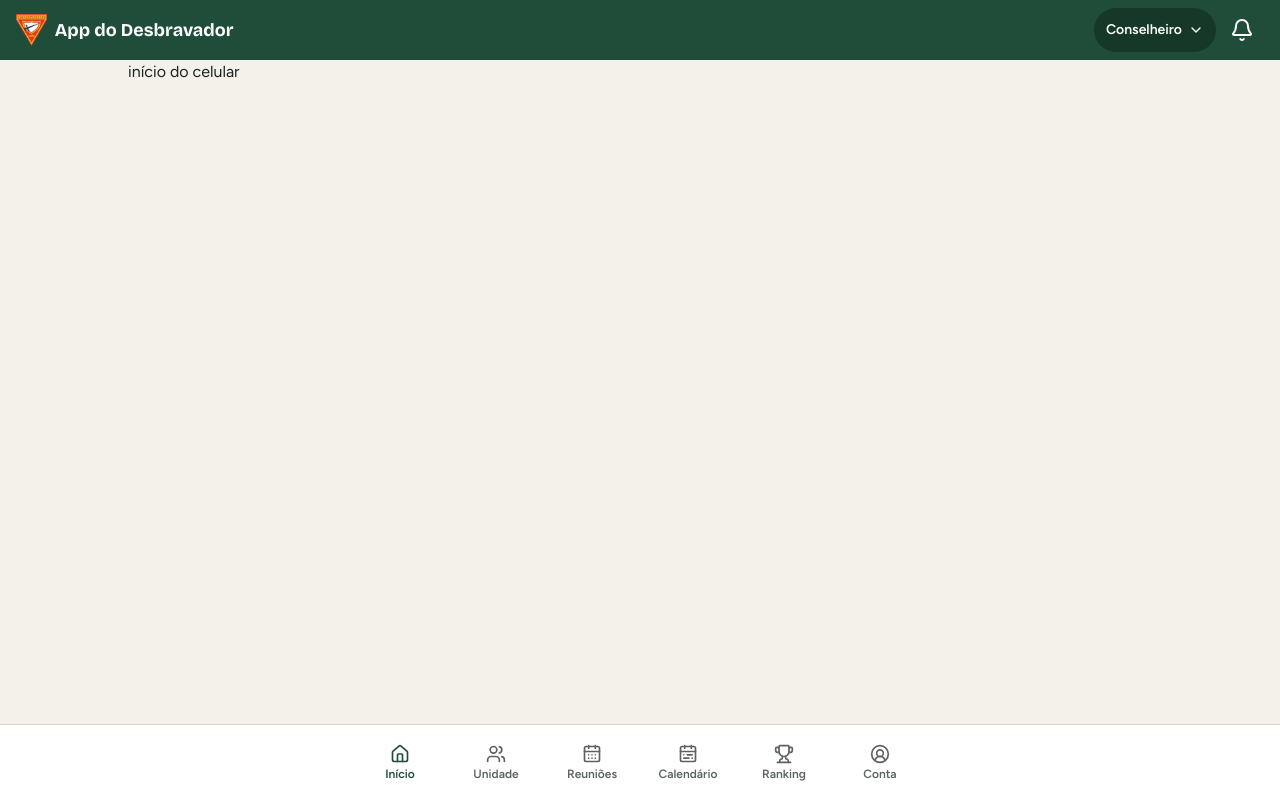
Scenario: selo do papel › menu lista só os papéis do clube, com escopo, e marca o atual
This screenshot has width=1280, height=800.
What coordinates should you click on to do the following:
click the button with aria-label "Papel: Conselheiro. Trocar de papel"
I would click on:
 (1155, 30)
Its box is [1094,8,1216,52].
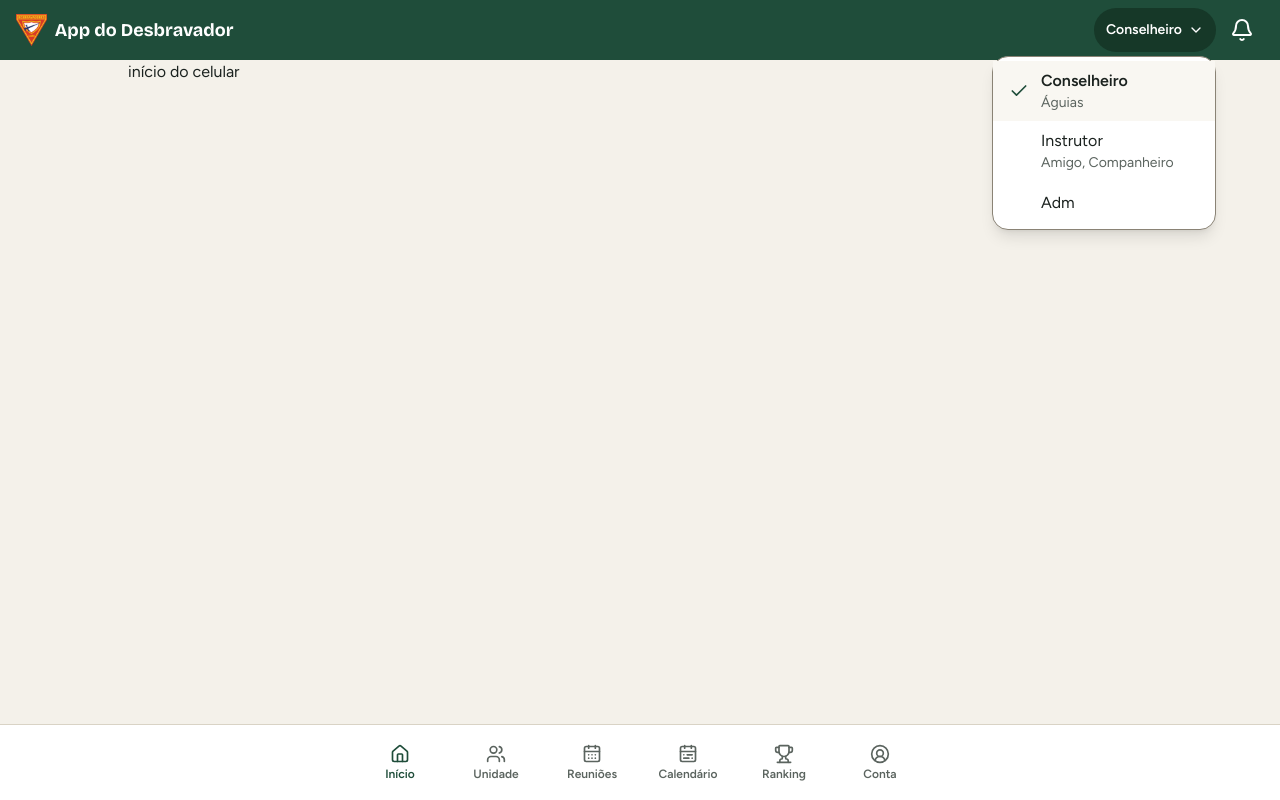
expect the number of menu items is 3: met, box [993,61,1215,121]; [993,121,1215,181]; [993,181,1215,225]
expect the menu item "Conselheiro Águias" is shown: met, box [993,61,1215,121]
expect the menu item "Instrutor Amigo, Companheiro" is shown: met, box [993,121,1215,181]
